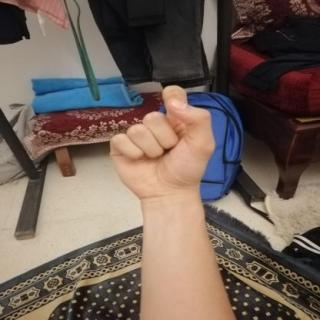FAA: (100, 80, 224, 204)
